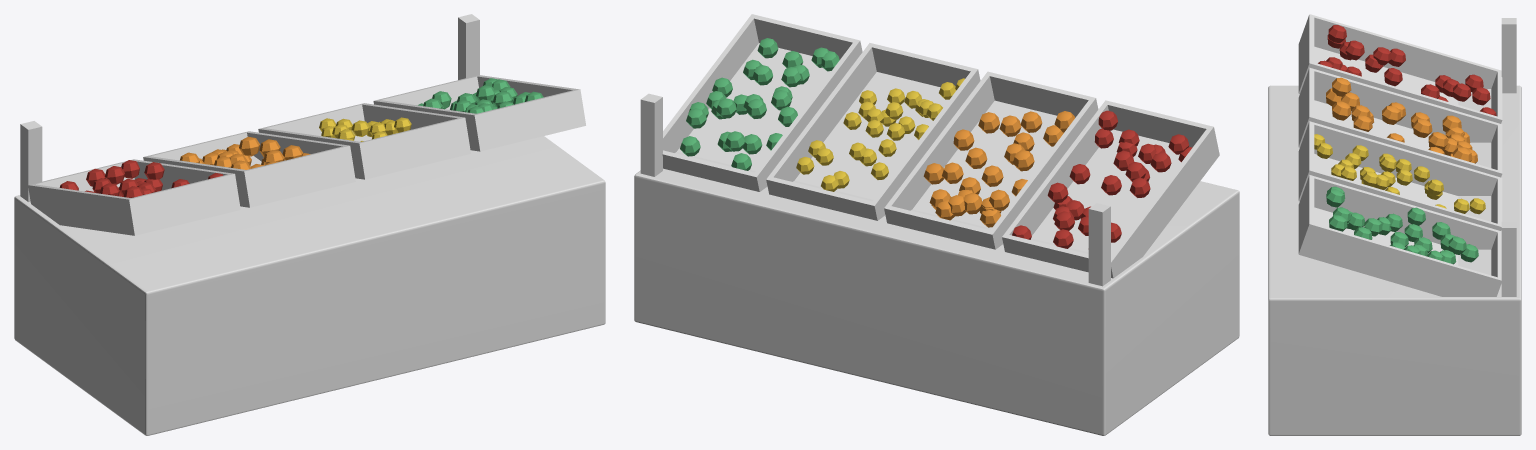
Rendered from SM_Produce_Stand.fbx.
3 views of the same model, side by side, from view 1: azimuth 30°, elevation 25°; view 2: azimuth 150°, elevation 25°; view 3: azimuth 270°, elevation 25° (orthographic). The views are drawn at different scales.
Parts seen in each view (by area): view 1: SM_Produce_Stand_1; view 2: SM_Produce_Stand_1; view 3: SM_Produce_Stand_1.
Boxes of the visible parts, x1,y1,x2,y2 form: SM_Produce_Stand_1: (14,14,605,435); SM_Produce_Stand_1: (634,14,1239,435); SM_Produce_Stand_1: (1268,14,1521,435).
Bounding box in the file's own units: 200 × 91.68 × 100.
